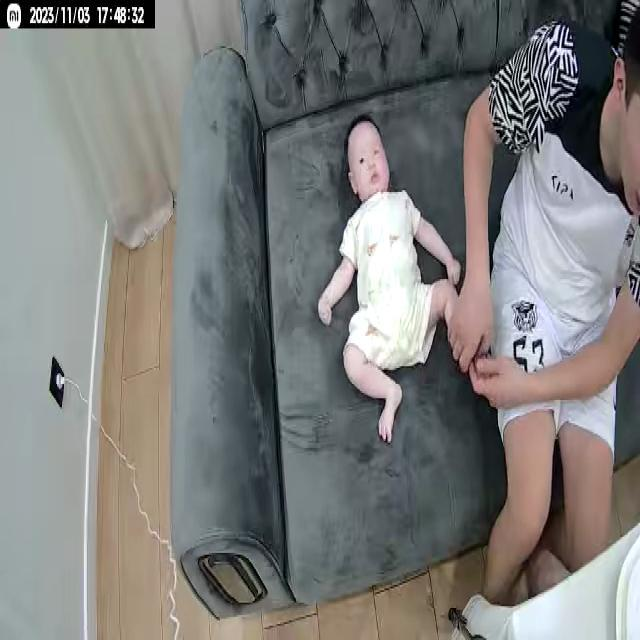baby: (314, 112, 472, 449)
